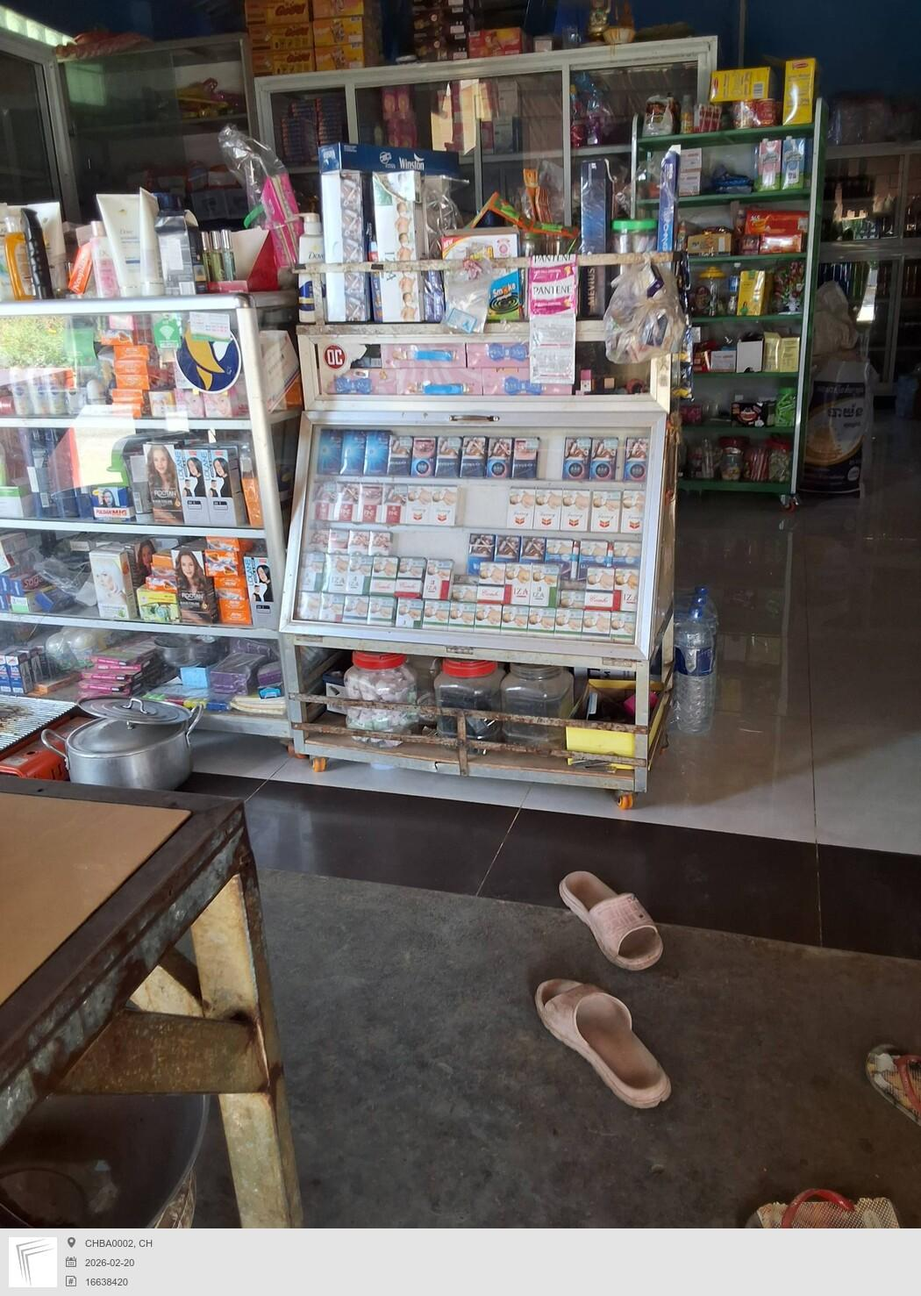cigarette_pack: (363, 428, 394, 475), (561, 437, 594, 480), (591, 492, 624, 532), (433, 435, 464, 477), (478, 561, 509, 603), (505, 489, 536, 530), (545, 540, 577, 579), (397, 557, 429, 596), (562, 491, 593, 531), (591, 437, 619, 481), (612, 569, 642, 610), (423, 559, 455, 597), (384, 436, 414, 476), (587, 568, 617, 608), (513, 436, 540, 480), (504, 565, 534, 604), (624, 438, 650, 482), (310, 482, 339, 521), (577, 542, 606, 581), (463, 437, 491, 477), (531, 564, 559, 604), (340, 431, 366, 474), (487, 437, 514, 478), (297, 554, 326, 592), (372, 557, 401, 595), (319, 424, 341, 473), (621, 491, 647, 532), (431, 485, 459, 523), (411, 437, 437, 477), (468, 536, 495, 574), (326, 554, 353, 592), (349, 556, 376, 594), (319, 591, 350, 623), (337, 484, 366, 518), (385, 484, 410, 523), (407, 486, 433, 523), (394, 597, 426, 627), (418, 601, 450, 631), (365, 596, 399, 624), (538, 491, 563, 528), (359, 488, 385, 522), (445, 603, 475, 631), (291, 592, 321, 619), (579, 610, 610, 636), (472, 604, 503, 628), (553, 610, 584, 634), (342, 595, 369, 622), (527, 607, 556, 632), (520, 538, 550, 562), (607, 611, 634, 637), (450, 576, 477, 599), (499, 605, 526, 627), (350, 530, 374, 554), (497, 536, 521, 560), (369, 531, 394, 554), (615, 544, 642, 565), (306, 530, 331, 552), (330, 532, 350, 553)
